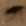cockroach: (4, 4, 24, 16)
